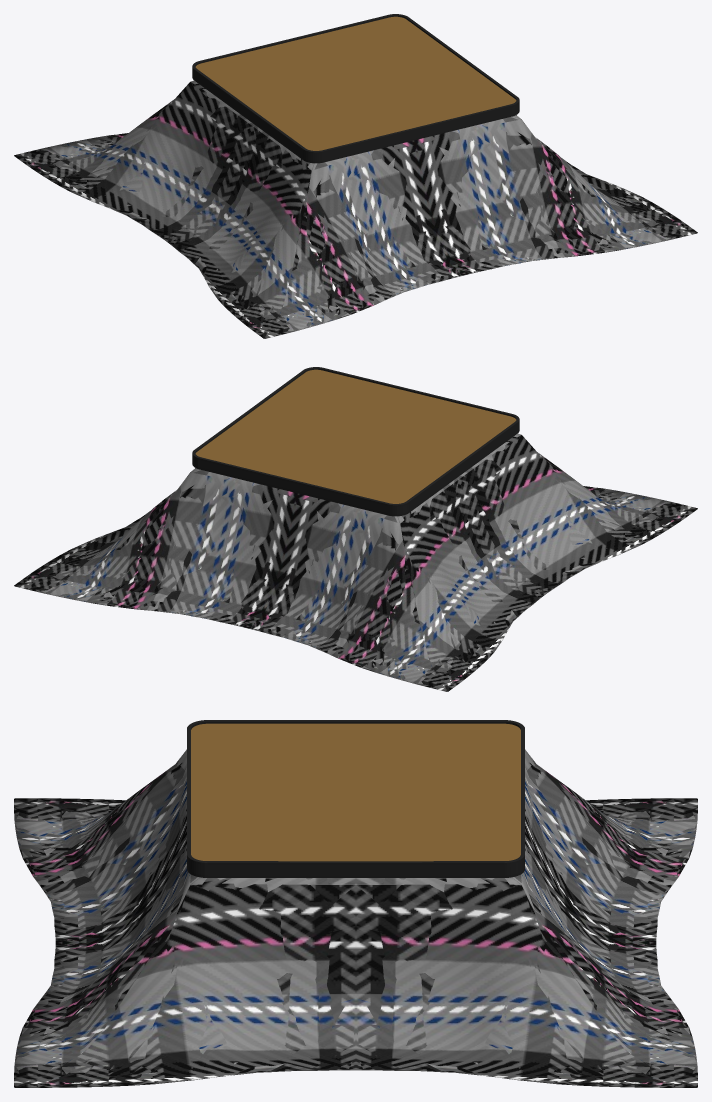
Rendered from kotatsu.fbx.
3 views of the same model, one above another, from view 1: azimuth 30°, elevation 25°; view 2: azimuth 150°, elevation 25°; view 3: azimuth 270°, elevation 25° (orthographic). The views are drawn at different scales.
Parts seen in each view (by area): view 1: kotatsu; view 2: kotatsu; view 3: kotatsu.
Part boxes in pixels (left/top/right/bottom): kotatsu: left=14, top=14, right=697, bottom=338; kotatsu: left=14, top=367, right=697, bottom=691; kotatsu: left=14, top=720, right=697, bottom=1087.
Bounding box in the file's own units: 1356 × 351 × 1355.
7 materials, 2 textured.
